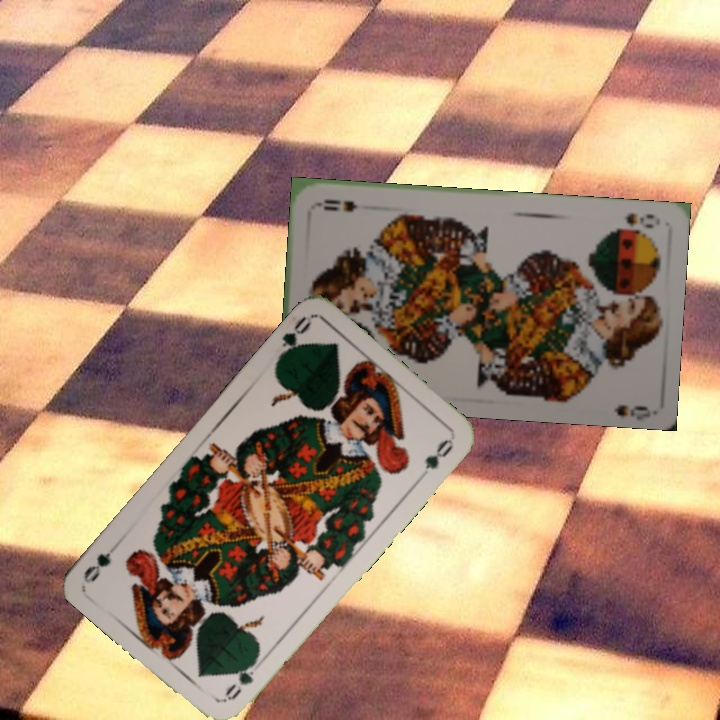GO: (219, 653, 261, 704), (273, 312, 314, 364)
SO: (613, 209, 657, 234)
